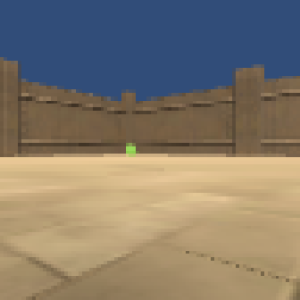goodGoal: (122, 141, 139, 156)
